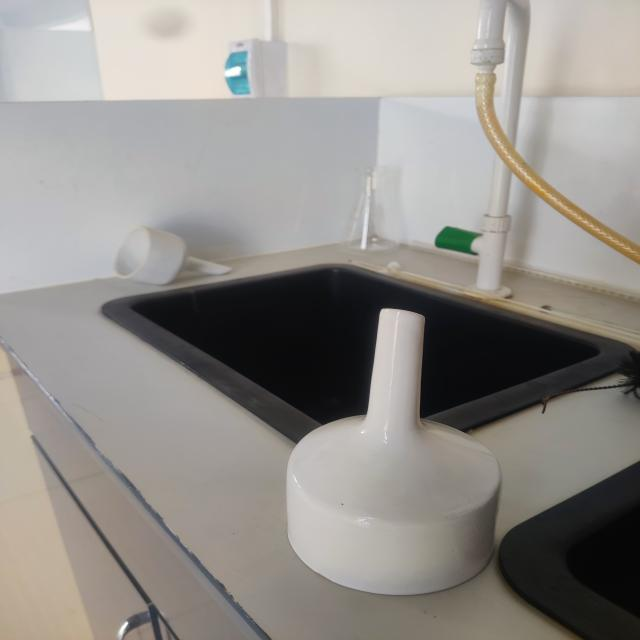Buchner_Funnel: (256, 286, 542, 618)
